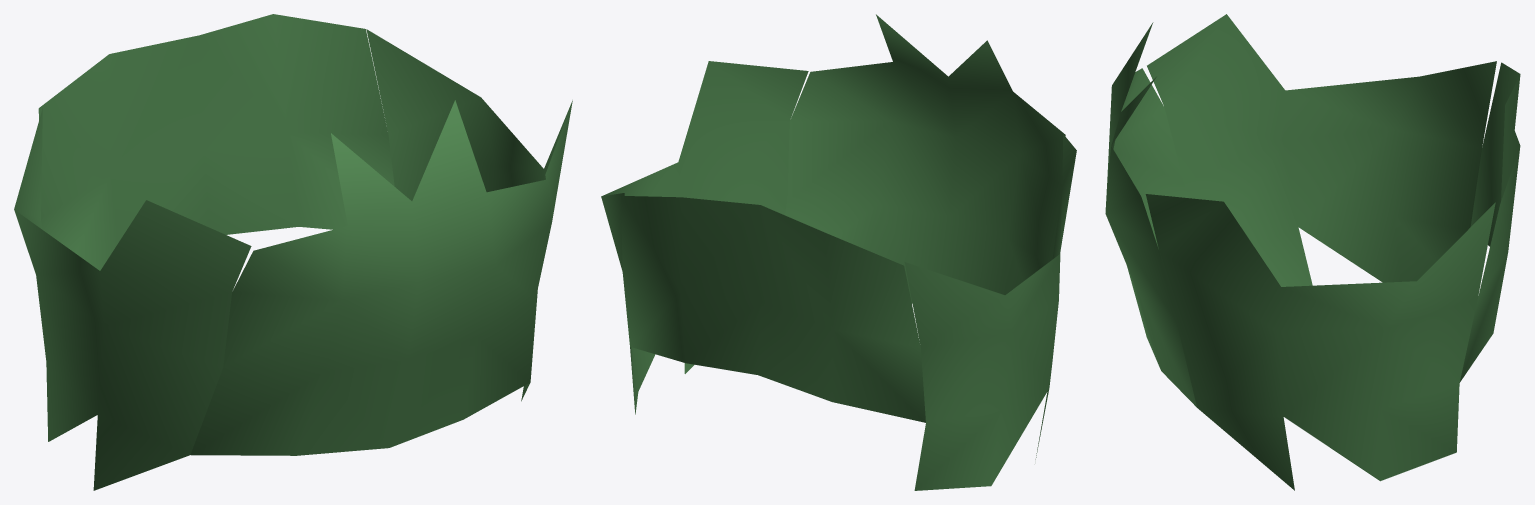
Rendered from spine1.glb.
The picture shows the model from 3 angles, left to right: view 1: azimuth 30°, elevation 25°; view 2: azimuth 150°, elevation 25°; view 3: azimuth 270°, elevation 25°; orthographic projection. The views are drawn at different scales.
Parts seen in each view (by area): view 1: sweater-green_SPINE1; view 2: sweater-green_SPINE1; view 3: sweater-green_SPINE1.
Boxes of the visible parts, <box> form: sweater-green_SPINE1: <box>14,14,572,490</box>; sweater-green_SPINE1: <box>601,14,1076,490</box>; sweater-green_SPINE1: <box>1105,14,1520,490</box>.
Bounding box in the file's own units: 0.3761 × 0.3034 × 0.3237.
Materials: 1 (1 with a texture image).
